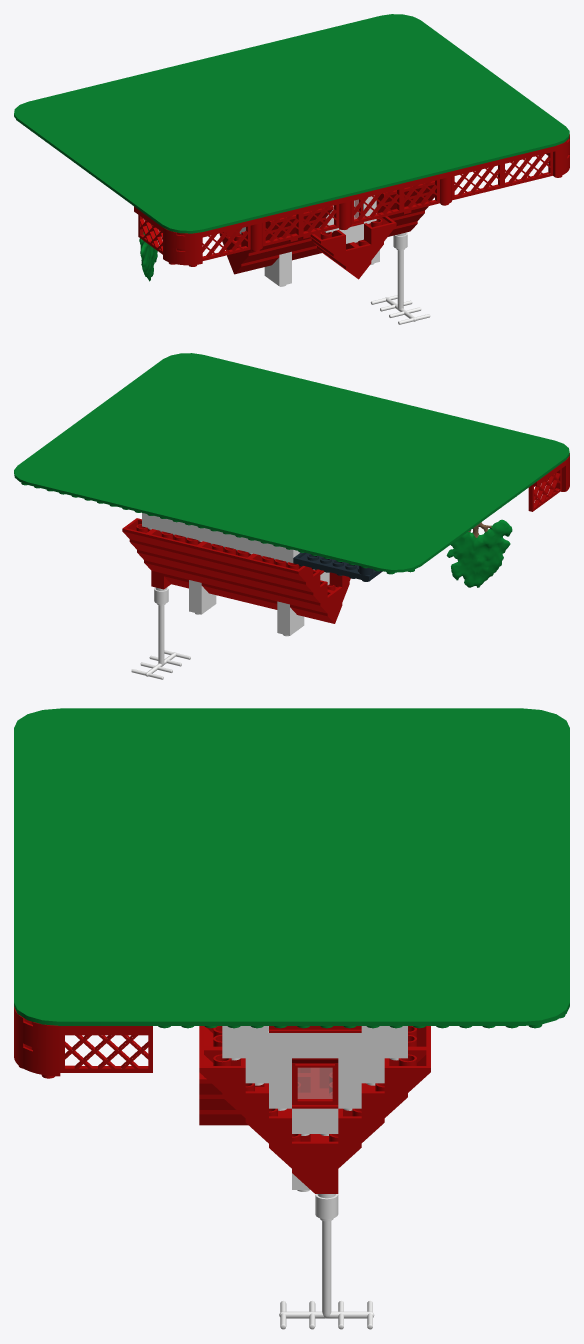
3 views of the same model, one above another, from view 1: azimuth 30°, elevation 25°; view 2: azimuth 150°, elevation 25°; view 3: azimuth 270°, elevation 25° (orthographic). The views are drawn at different scales.
Size of the model in its own units: 640 by 343 by 480.
